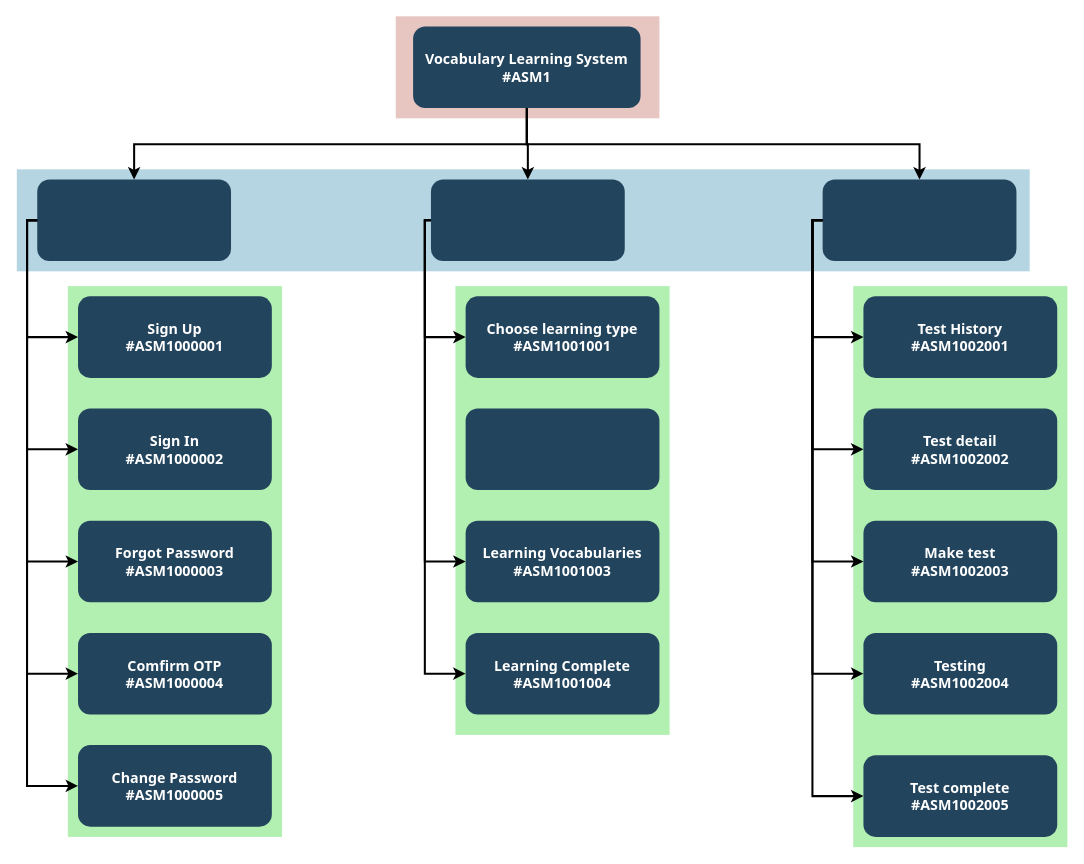
The diagram is 1084 pixels wide and 864 high, and some of its shapes have lost their labels. Here are the shapes that lost their labels. From the top down, the centre of each, then its label:
At [134,220]: "Authentication #ASM1000".
At [527,220]: "Learning #ASM1001".
At [919,220]: "Testing #ASM1002".
At [562,449]: "Vocabulary List #ASM1001002".
